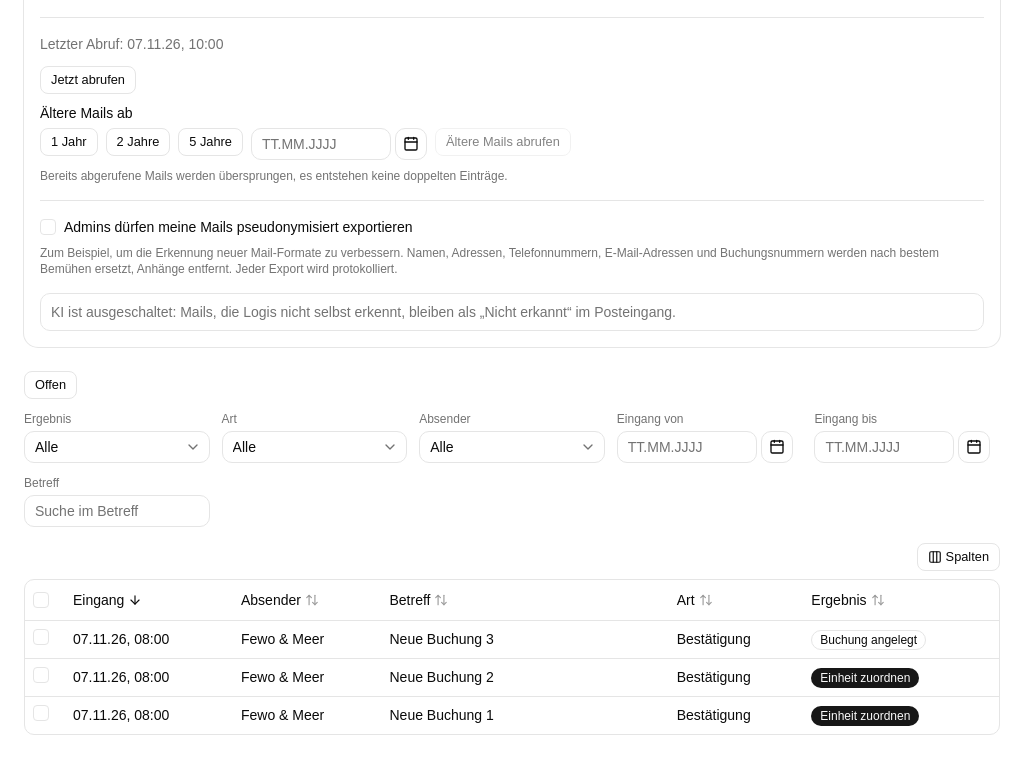
Test: Inbox › bulk actions › assigns one unit to several waiting booking mails
The width and height of the screenshot is (1024, 759).
(page scrolled)
What coordinates should you click on to do the following:
click the checkbox named "Alle auf dieser Seite auswählen"
I would click on:
 (41, 600)
Its box is left=33, top=592, right=49, bottom=608.
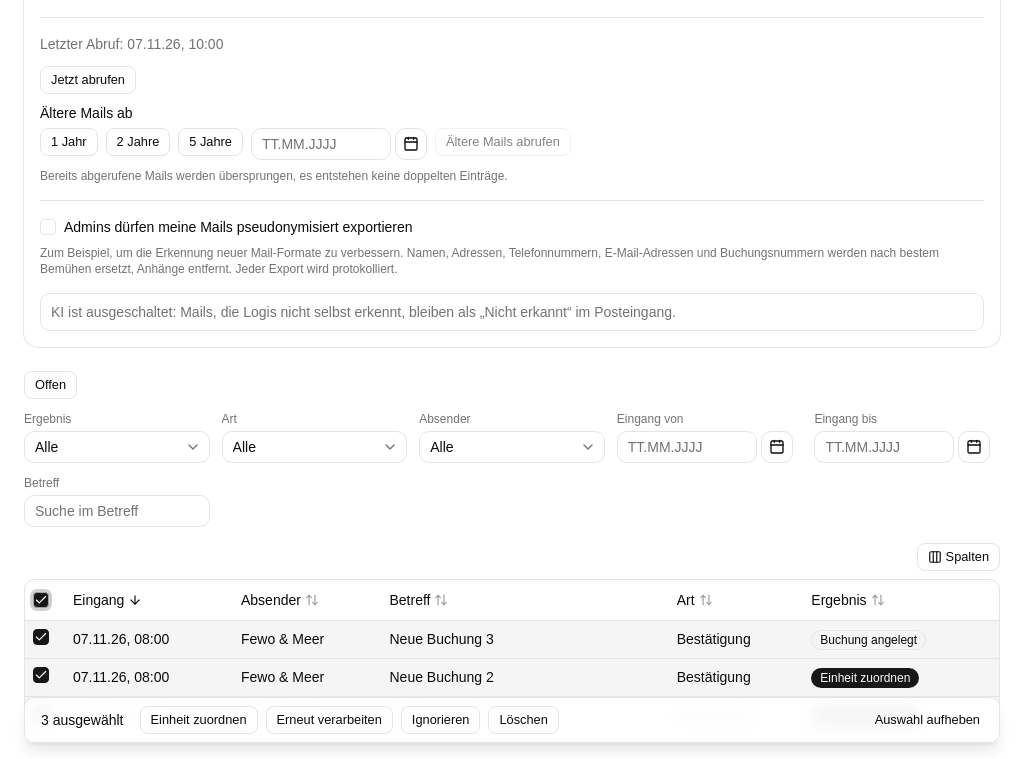
What coordinates should you click on to do the following:
click the button "Einheit zuordnen"
I would click on:
 (198, 720)
Its box is left=140, top=706, right=258, bottom=734.
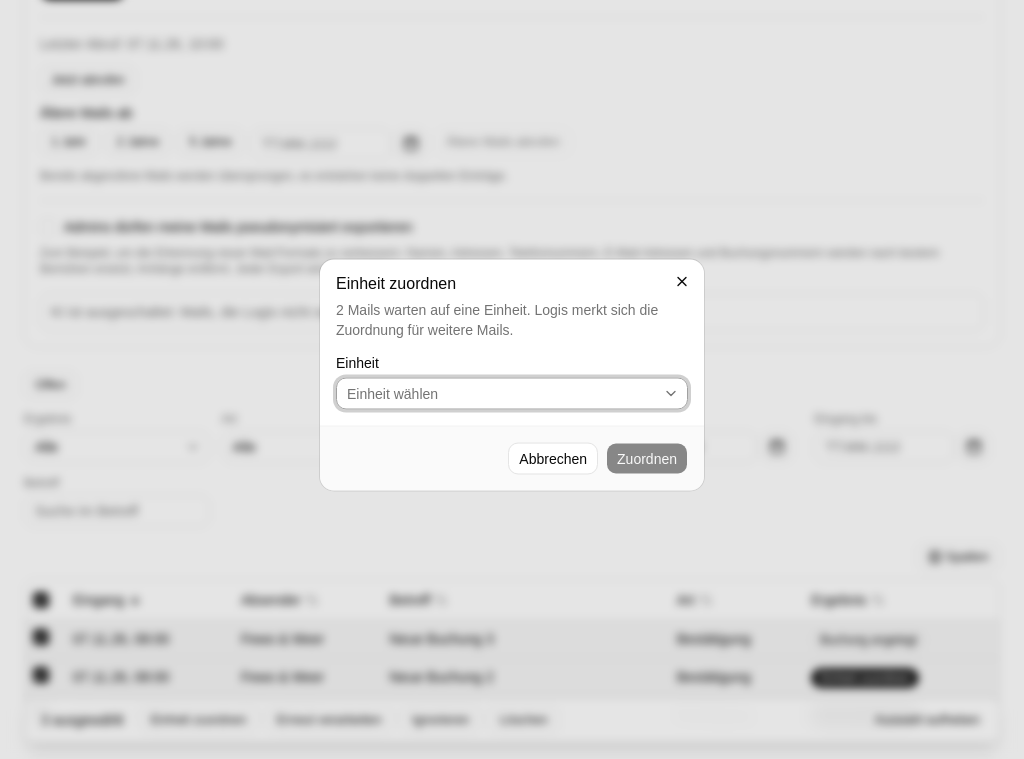
Result: the text "2 Mails warten auf eine Einheit" is shown at left=336, top=300, right=688, bottom=340
What coordinates should you click on to do the following:
click the dropdown labelled "Einheit"
I would click on:
 (393, 394)
Its box is left=336, top=378, right=688, bottom=410.
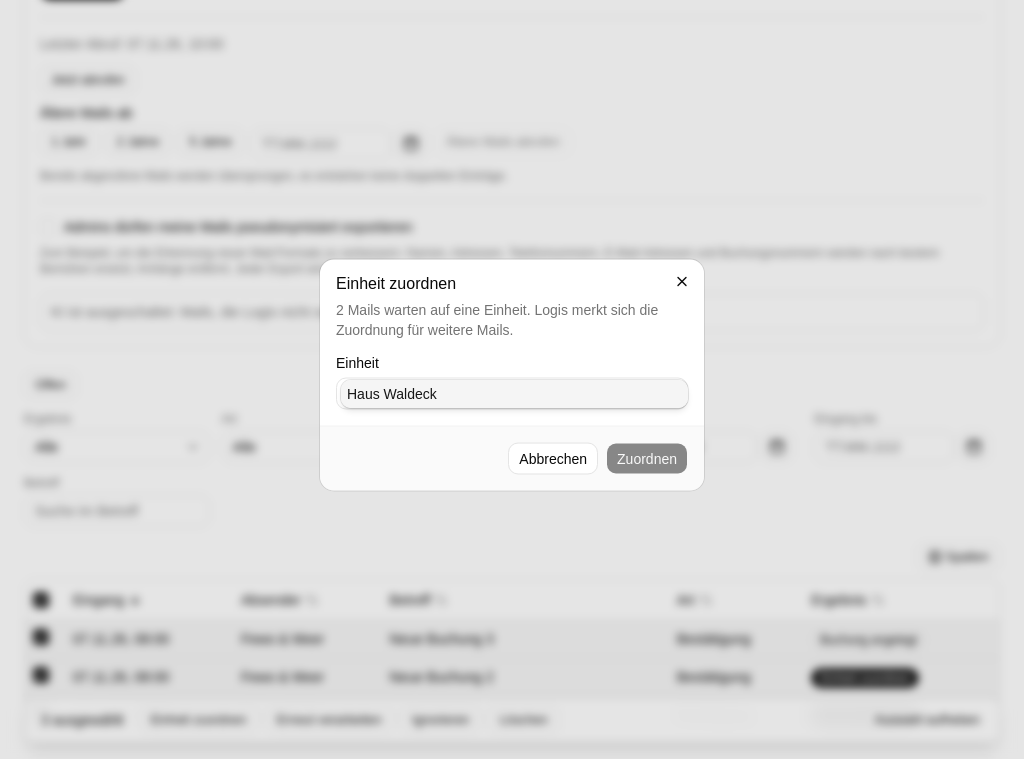
What coordinates should you click on to do the following:
click the option "Haus Waldeck"
I would click on:
 (392, 394)
Its box is left=341, top=380, right=688, bottom=408.
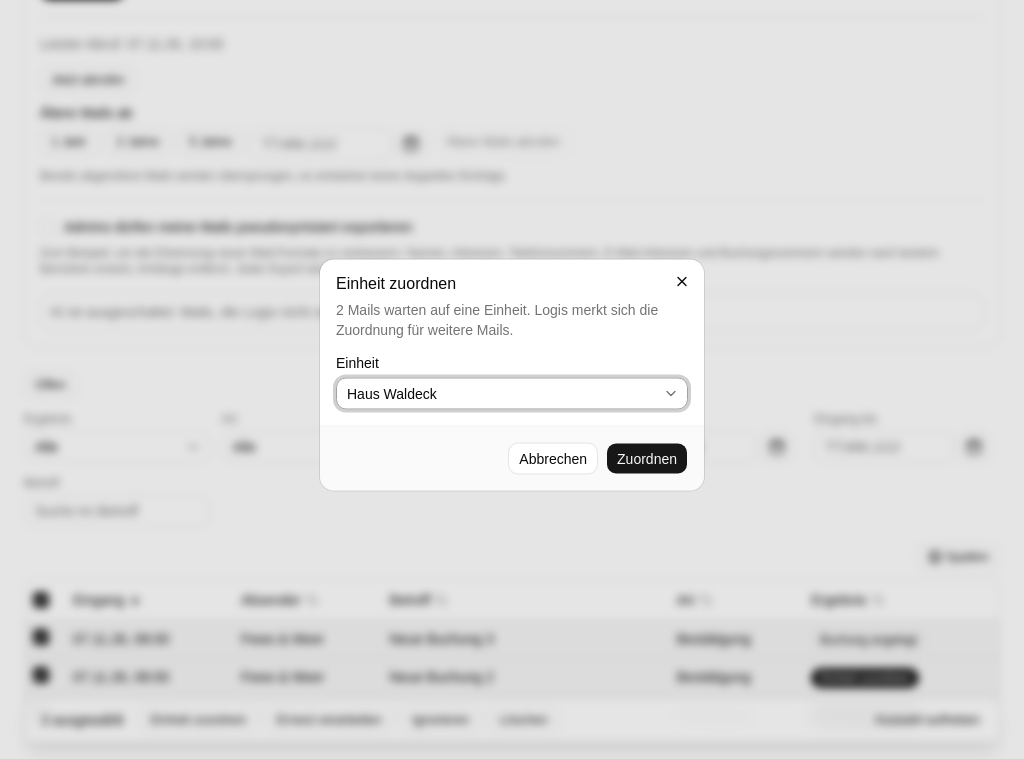
What coordinates should you click on to do the following:
click the button "Zuordnen"
I would click on:
 (647, 458)
Its box is left=606, top=442, right=688, bottom=474.
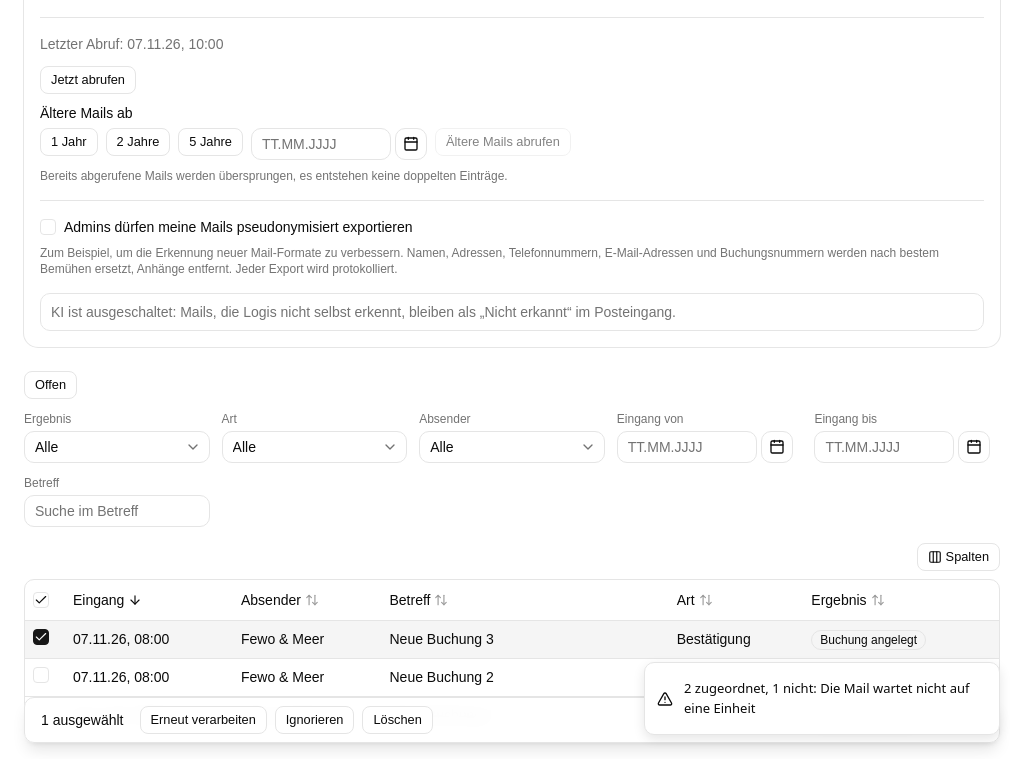
Result: the text "2 zugeordnet, 1 nicht: Die Mail wartet nicht auf eine Einheit" is shown at left=684, top=679, right=983, bottom=718
